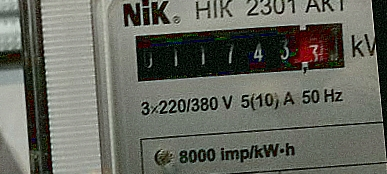0: (138, 42, 155, 70)
1: (165, 40, 182, 69), (193, 38, 209, 67)
3: (274, 34, 291, 63), (304, 42, 321, 64)
4: (248, 38, 265, 64)
7: (220, 39, 237, 65)
screen: (124, 10, 355, 95)
